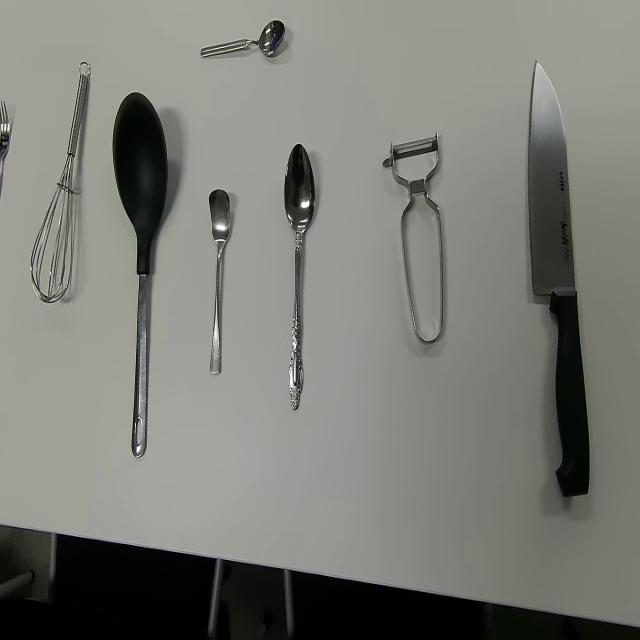Desert-Spoon: (284, 142, 316, 412)
Dinner-Fork: (0, 99, 9, 204)
Kitchen-Knife: (526, 58, 590, 499)
Peeler: (382, 131, 444, 346)
Serving-Spoon: (112, 90, 169, 461)
Tea-Spoon: (208, 187, 230, 375), (200, 18, 286, 59)
Whisk: (29, 60, 92, 304)
